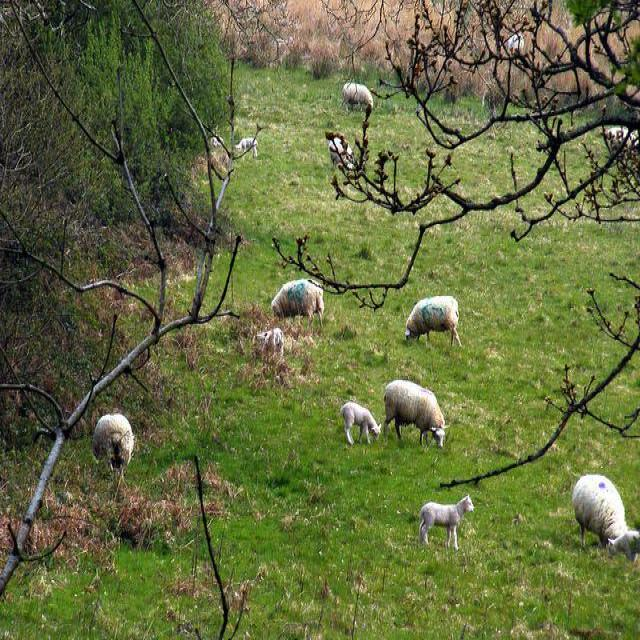Sheep: (208, 29, 633, 562), (383, 380, 451, 449), (573, 475, 631, 549), (419, 494, 475, 550), (405, 297, 464, 348), (271, 278, 325, 330), (93, 415, 135, 477), (340, 402, 382, 447)
